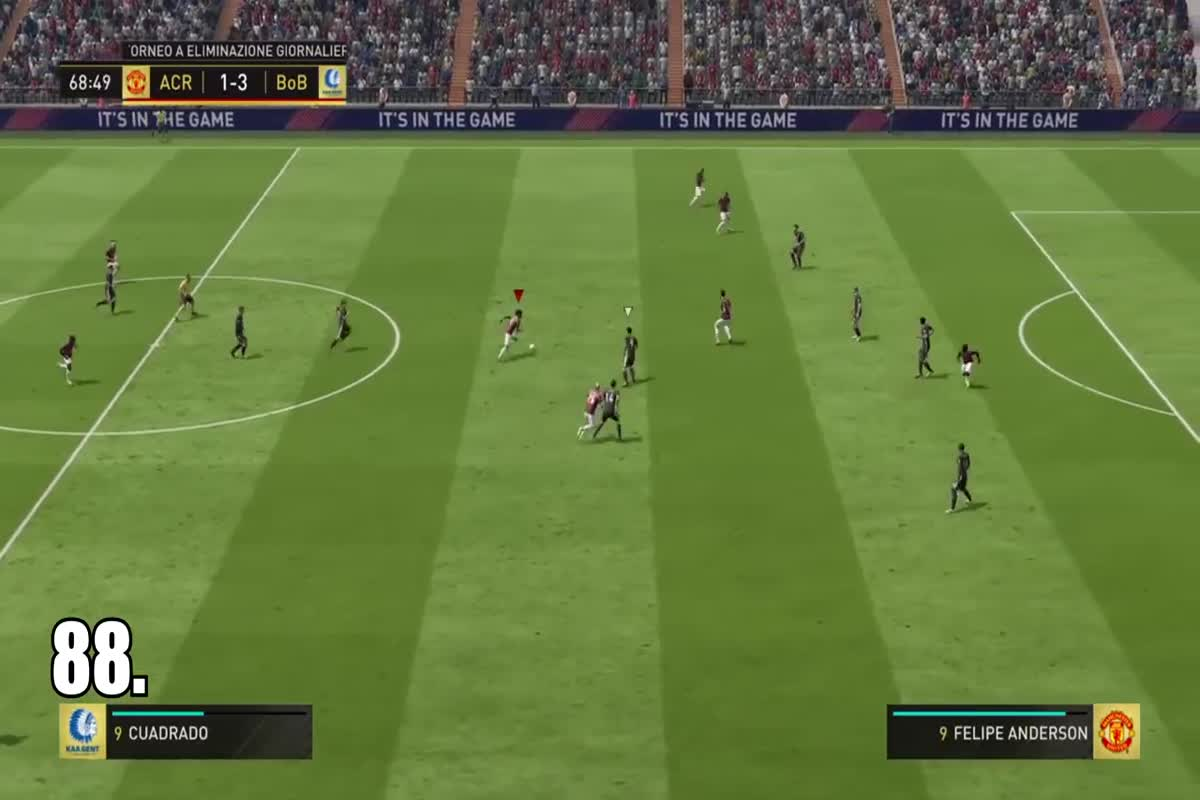ball: (523, 338, 545, 356)
